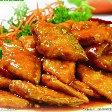hongshaodaiyu: (1, 12, 112, 112)
